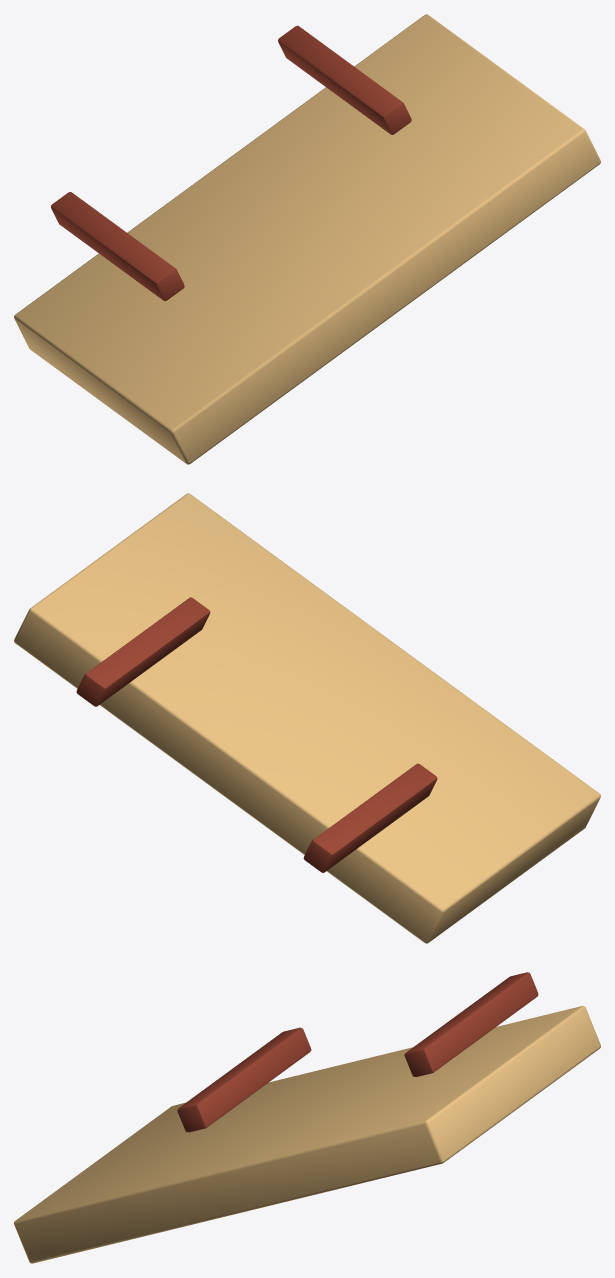
3 renders of one model, top to bottom at view 1: azimuth 30°, elevation 25°; view 2: azimuth 150°, elevation 25°; view 3: azimuth 330°, elevation 25°, orthographic.
Visible parts, largest first — view 1: shadeBeige.001, shadeBrown.006, shadeBrown.002; view 2: shadeBeige.001, shadeBrown.002, shadeBrown.006; view 3: shadeBeige.001, shadeBrown.006, shadeBrown.002.
Boxes of the visible parts, x1,y1,x2,y2 form: shadeBeige.001: (14,14,600,464); shadeBrown.006: (51,192,184,300); shadeBrown.002: (278,25,411,134); shadeBeige.001: (14,493,600,943); shadeBrown.002: (76,597,210,706); shadeBrown.006: (303,763,437,872); shadeBeige.001: (14,1006,600,1263); shadeBrown.006: (177,1027,311,1132); shadeBrown.002: (404,972,538,1076).
Size of the model in its own units: 4.65 by 2.47 by 3.68.
